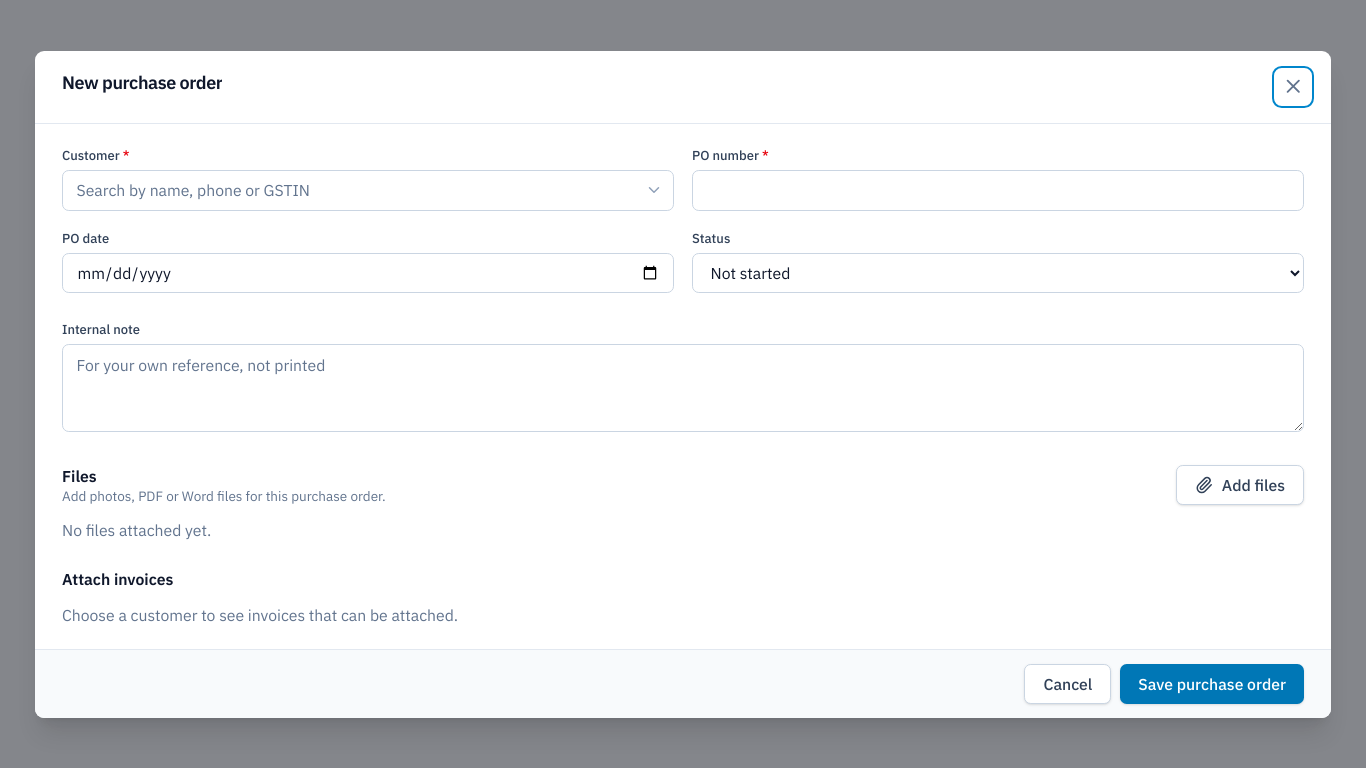
Scenario: a new purchase order › says when the customer has nothing to attach or quote
Click the dropdown named "Customer" at point(368, 190), box [62,170,674,210]
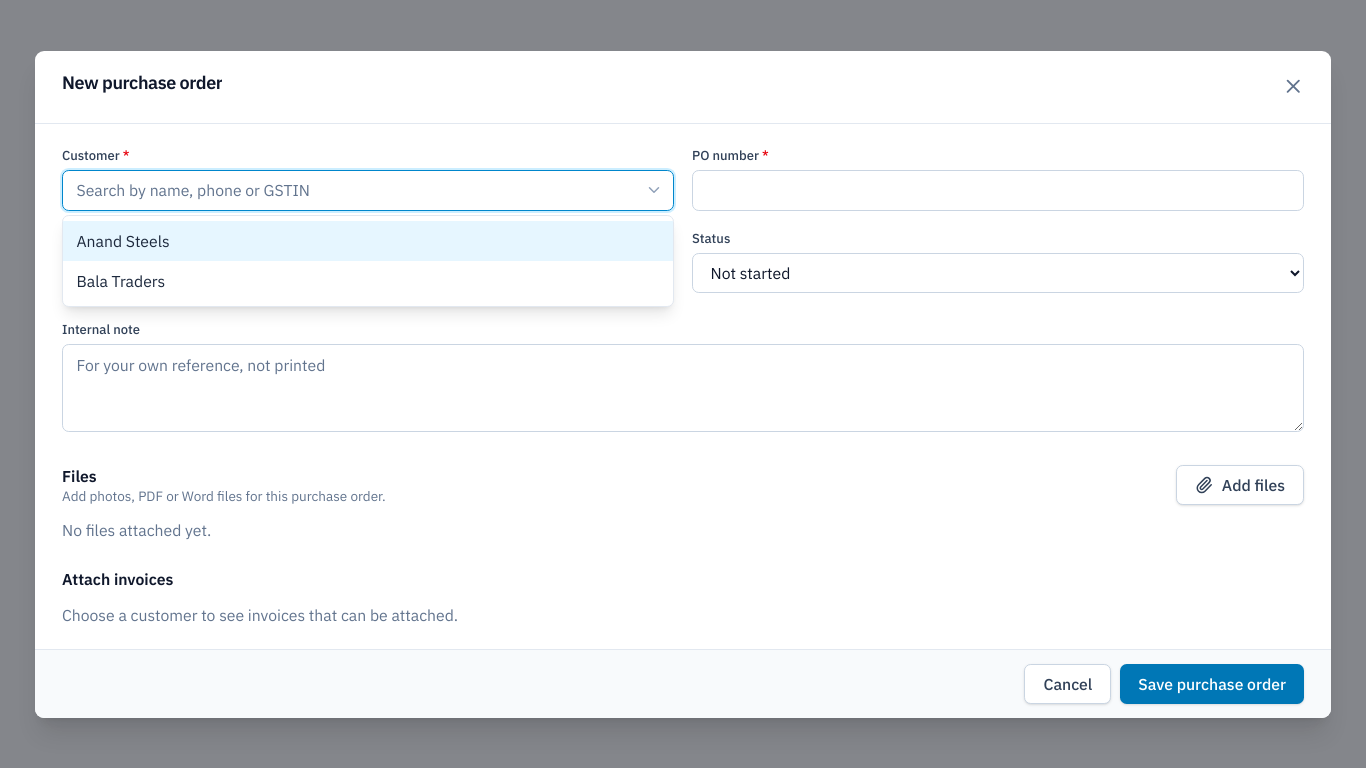
Click the option "Bala Traders" at point(121, 281), box [76,271,165,291]
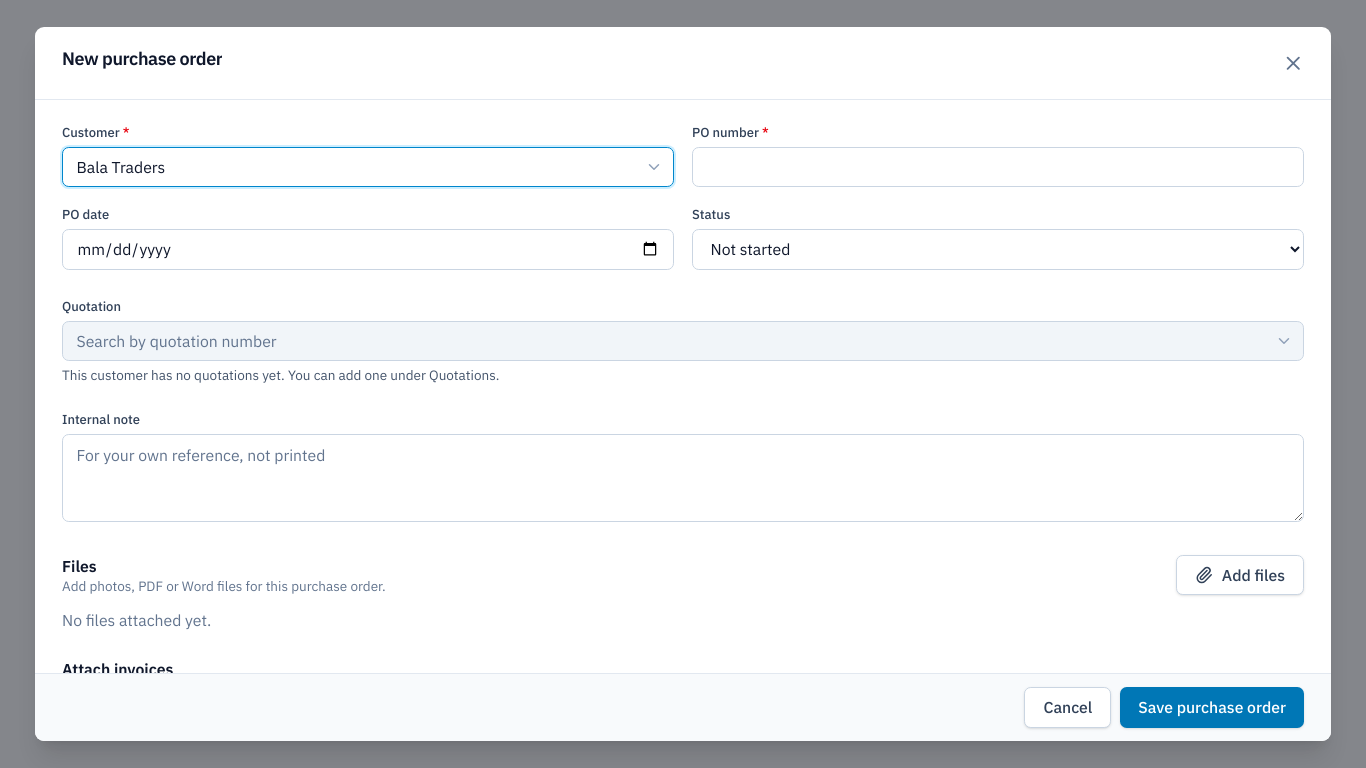
Expected: the text "This customer has no quotations yet. You can add one under Quotations." is shown, [62,366,499,384]
Expected: the dropdown labelled "quotation" is disabled, [62,320,1304,361]
